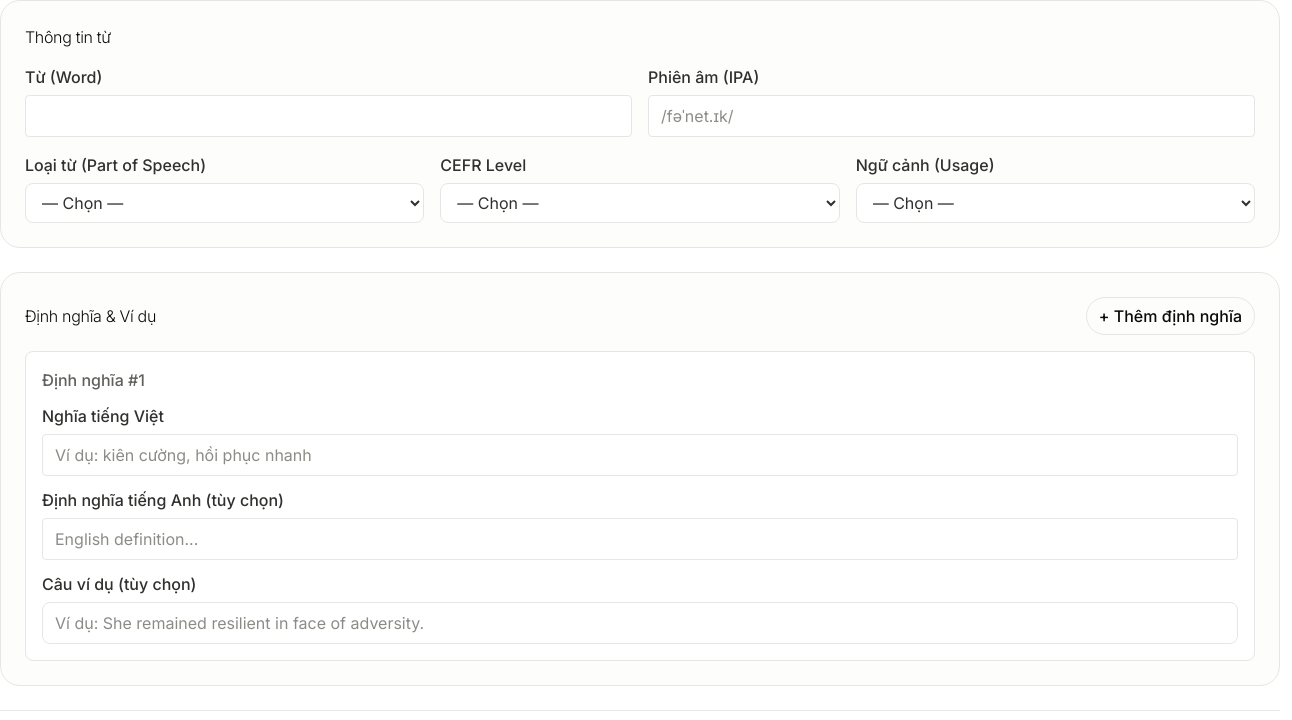
Scenario: WordForm component › shows error when all definitions are empty on submit
The image size is (1292, 720).
Type "resilient" into the field labelled "Từ (Word)".
click(328, 116); type("resilient")  # box [25,95,632,137]
(page scrolled)
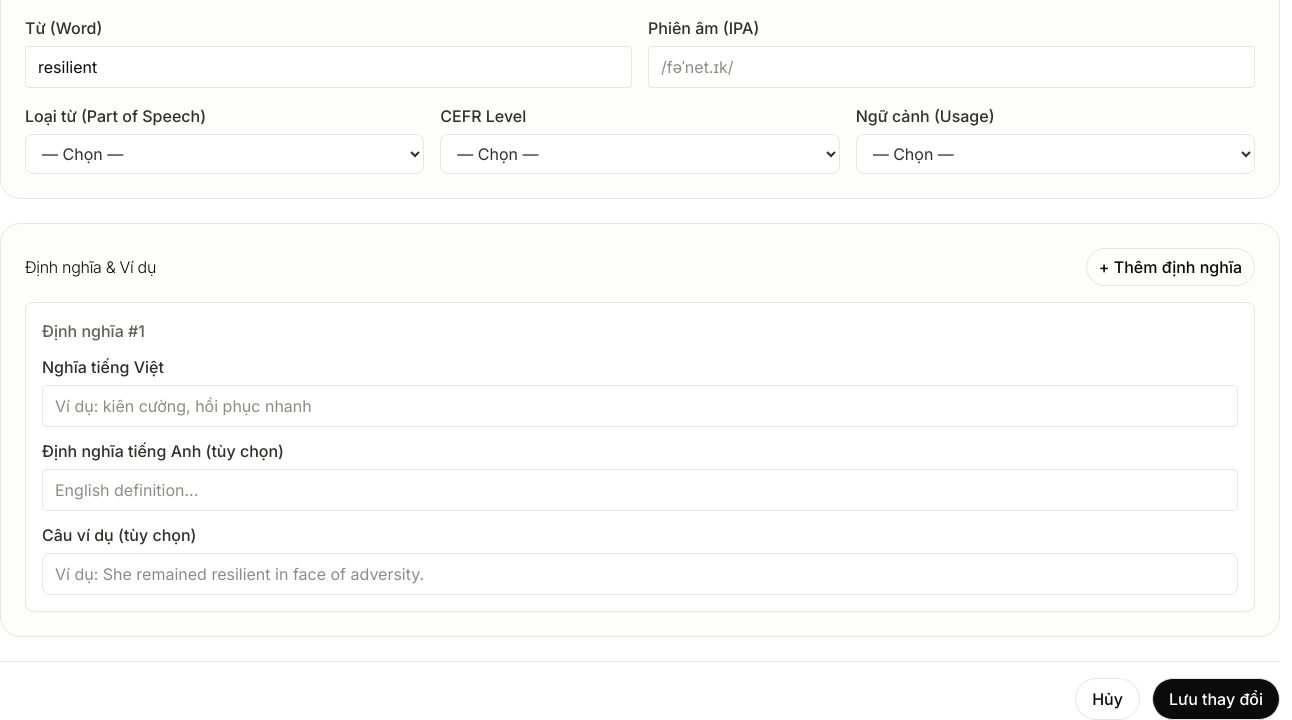
Click the button "Lưu thay đổi".
click(1216, 699)  # box [1152,678,1280,719]
(page scrolled)
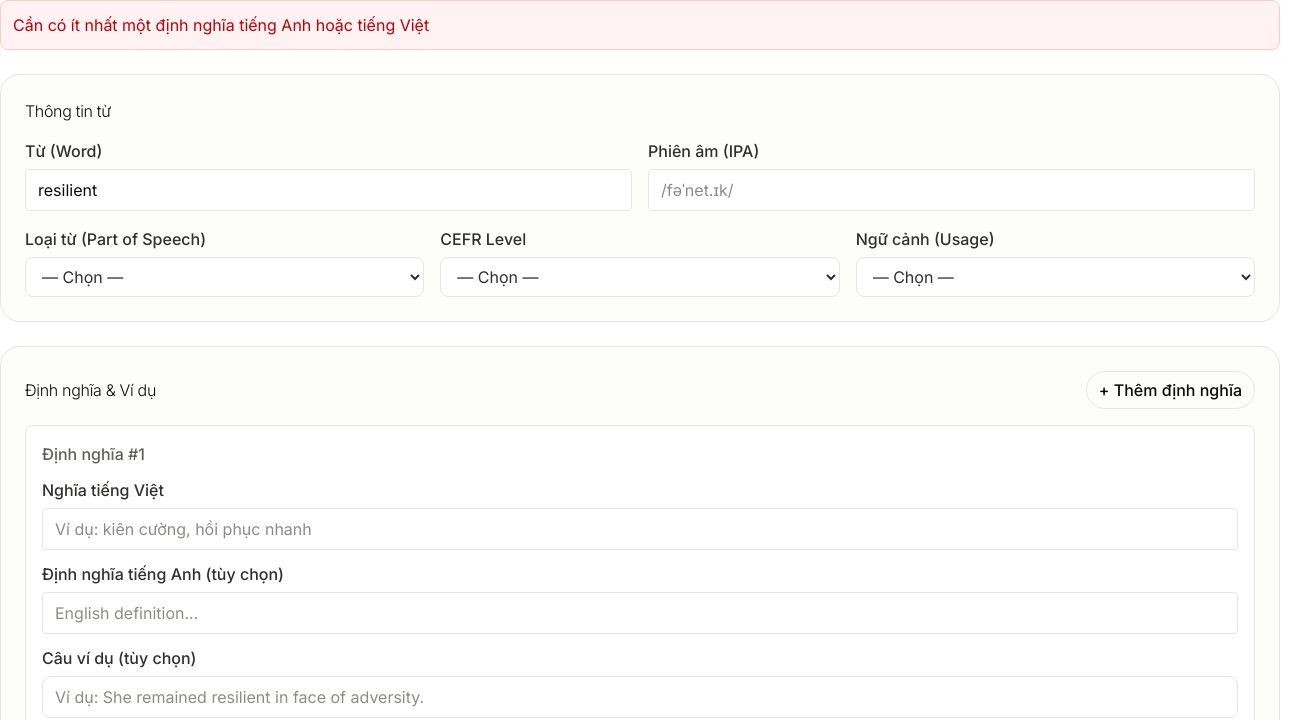
Result: the text "Cần có ít nhất một định nghĩa tiếng Anh hoặc tiếng Việt" is shown at [0,0,1280,50]
